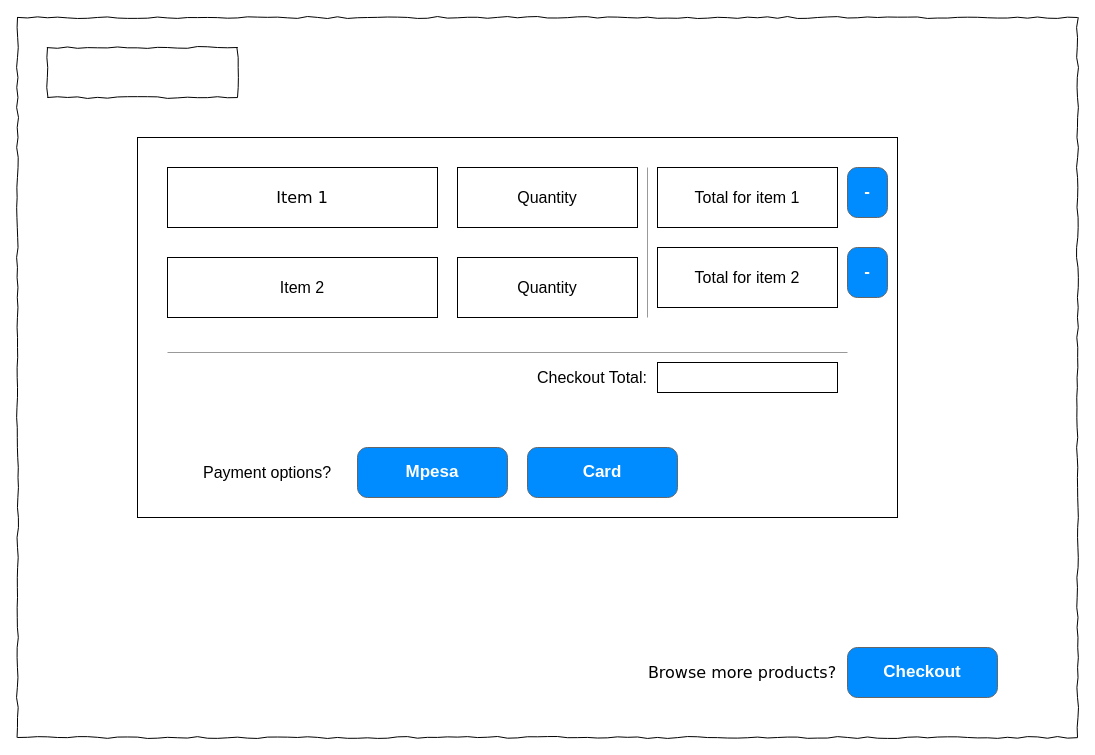
Some shapes in this 1095 by 755 pixel diagram are drawn without their labels. Here are the shapes that lost their labels. From the top down, the centre of each, then its label:
At point 142,72: "LOGO".
At point 747,377: "Total".
